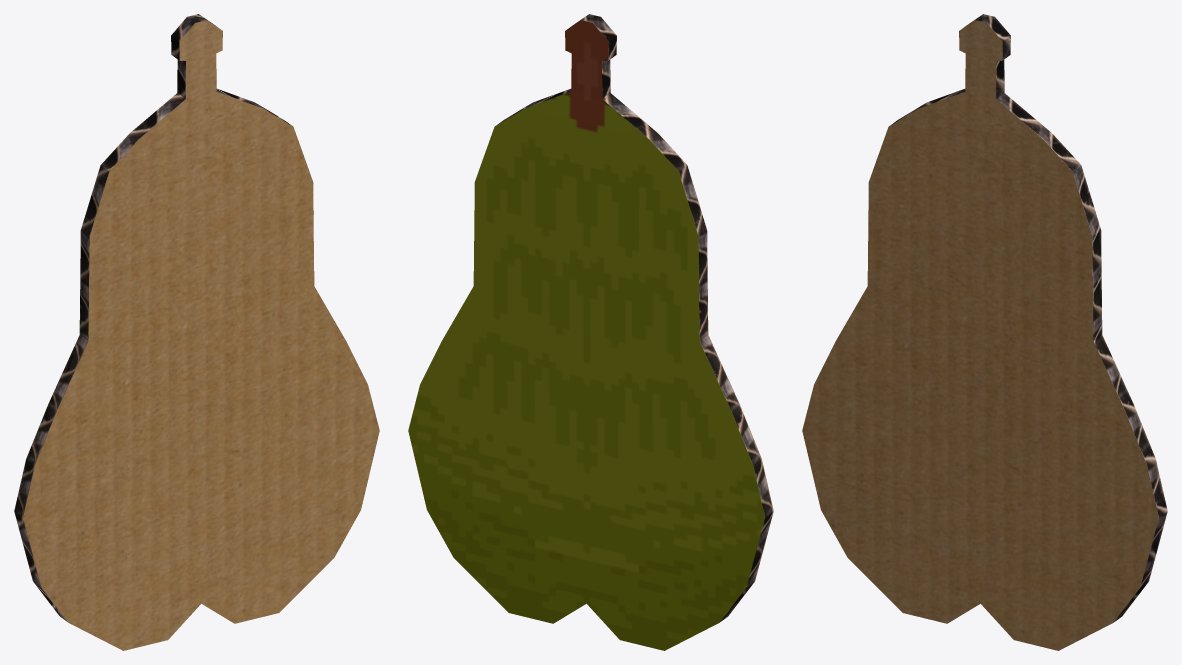
The model's file is PERA_A.glb.
3 views of the same model, side by side, from view 1: azimuth 30°, elevation 25°; view 2: azimuth 150°, elevation 25°; view 3: azimuth 330°, elevation 25° (orthographic).
Parts seen in each view (by area): view 1: PERA; view 2: PERA; view 3: PERA.
Boxes of the visible parts, <box> form: PERA: <box>14,14,379,650</box>; PERA: <box>408,14,773,650</box>; PERA: <box>802,14,1167,650</box>.
Size of the model in its own units: 1.74 by 2.84 by 0.0743.
1 material, 1 textured.
